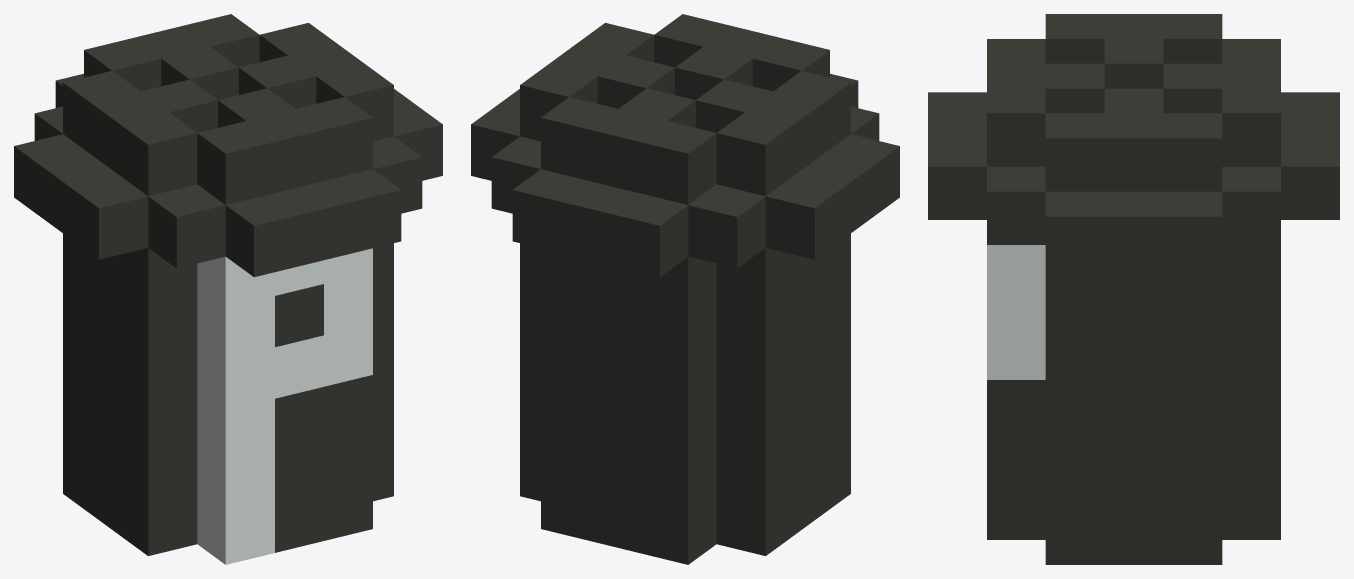
Rendered from Centre Poivriere.obj.
3 views of the same model, side by side, from view 1: azimuth 30°, elevation 25°; view 2: azimuth 150°, elevation 25°; view 3: azimuth 270°, elevation 25° (orthographic). The views are drawn at different scales.
Visible parts, largest first — view 1: Centre Poivriere; view 2: Centre Poivriere; view 3: Centre Poivriere.
Boxes of the visible parts, left/top/right/bottom form: Centre Poivriere: left=14, top=14, right=442, bottom=564; Centre Poivriere: left=471, top=14, right=899, bottom=564; Centre Poivriere: left=928, top=14, right=1339, bottom=564.
Size of the model in its own units: 7 by 8 by 7.
1 material, 1 textured.
